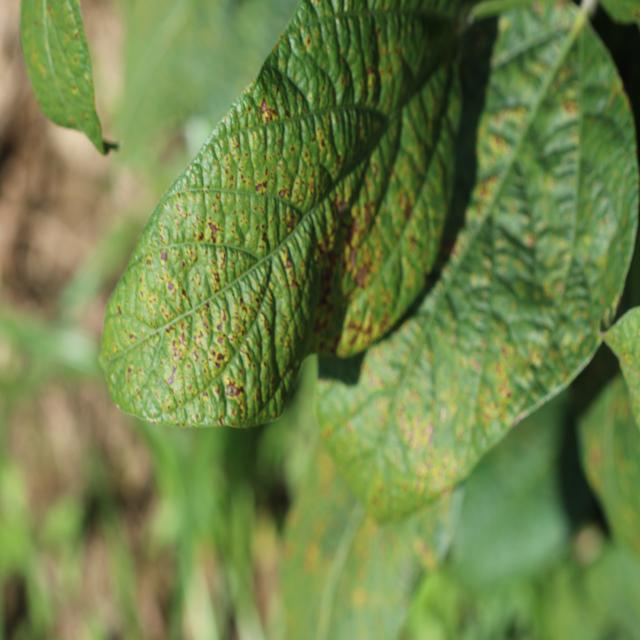Bacterial_Blight: (393, 361, 461, 461), (476, 334, 532, 423), (314, 199, 366, 289), (151, 255, 186, 306), (170, 332, 189, 364), (449, 230, 466, 264), (252, 165, 270, 193), (258, 93, 278, 118), (207, 269, 223, 294), (206, 220, 222, 244), (561, 98, 579, 117), (335, 198, 349, 220), (400, 197, 412, 220), (285, 209, 297, 231), (226, 383, 243, 397), (284, 252, 295, 272), (524, 232, 536, 248), (278, 187, 289, 200), (216, 352, 226, 364), (261, 232, 269, 246), (160, 251, 168, 263), (368, 67, 376, 78), (197, 232, 204, 241), (69, 116, 75, 124)
Soybean: (96, 0, 498, 432)
